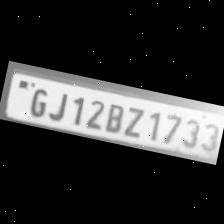1: (64, 90, 89, 127), (140, 106, 164, 142)
2: (80, 94, 106, 130)
3: (176, 113, 202, 148), (197, 117, 222, 152)
7: (156, 108, 183, 144)
B: (100, 98, 127, 133)
G: (23, 82, 50, 119)
J: (44, 85, 72, 122)
Z: (119, 100, 147, 139)
